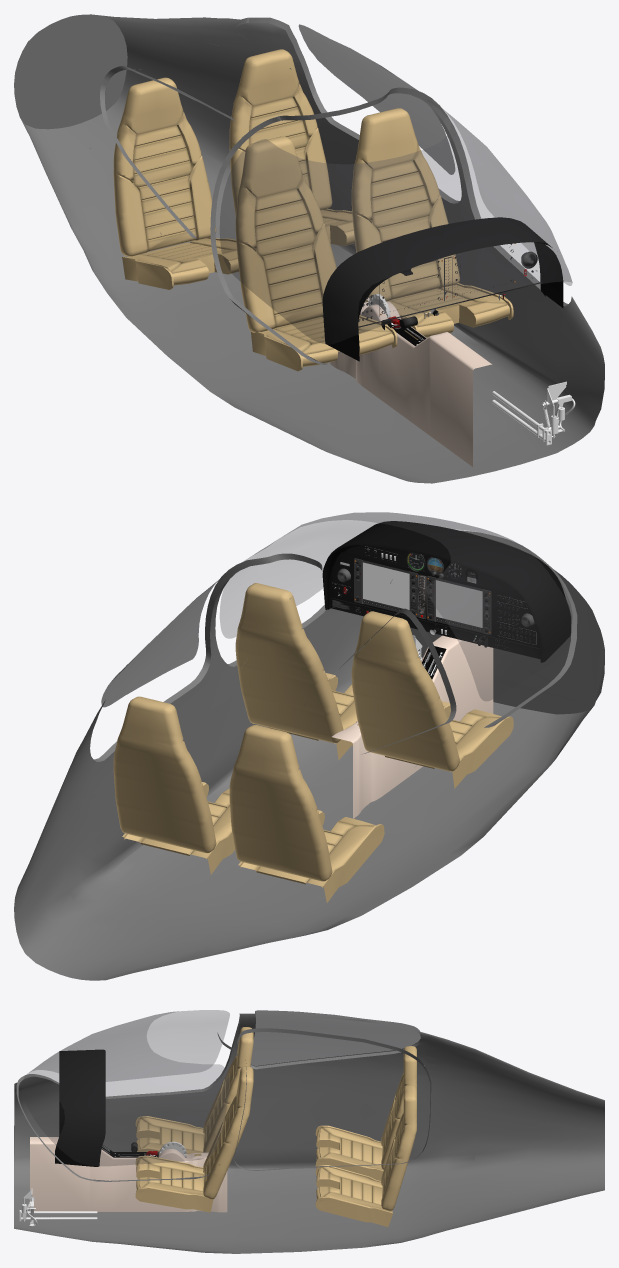
Rendered from interior.gltf.
The picture shows the model from 3 angles, top to bottom: view 1: azimuth 30°, elevation 25°; view 2: azimuth 150°, elevation 25°; view 3: azimuth 270°, elevation 25°; orthographic projection. The views are drawn at different scales.
Parts seen in each view (by area): view 1: Interior; view 2: Interior; view 3: Interior.
Part boxes in pixels (x1=…): Interior: x1=14, y1=14, x2=604, y2=483; Interior: x1=14, y1=512, x2=604, y2=980; Interior: x1=14, y1=1010, x2=604, y2=1253.
Size of the model in its own units: 1.22 by 1.22 by 3.42.
30 materials, 24 textured.
